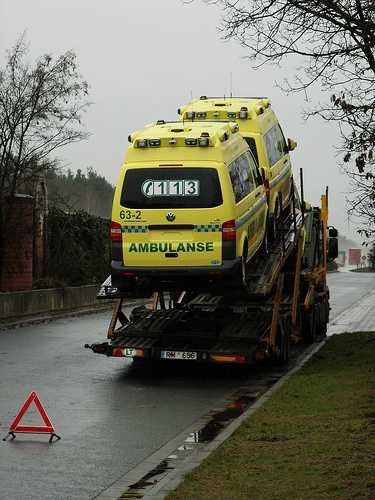Ambulance: (99, 91, 309, 278)
